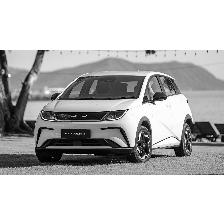EV: (34, 70, 195, 164)
